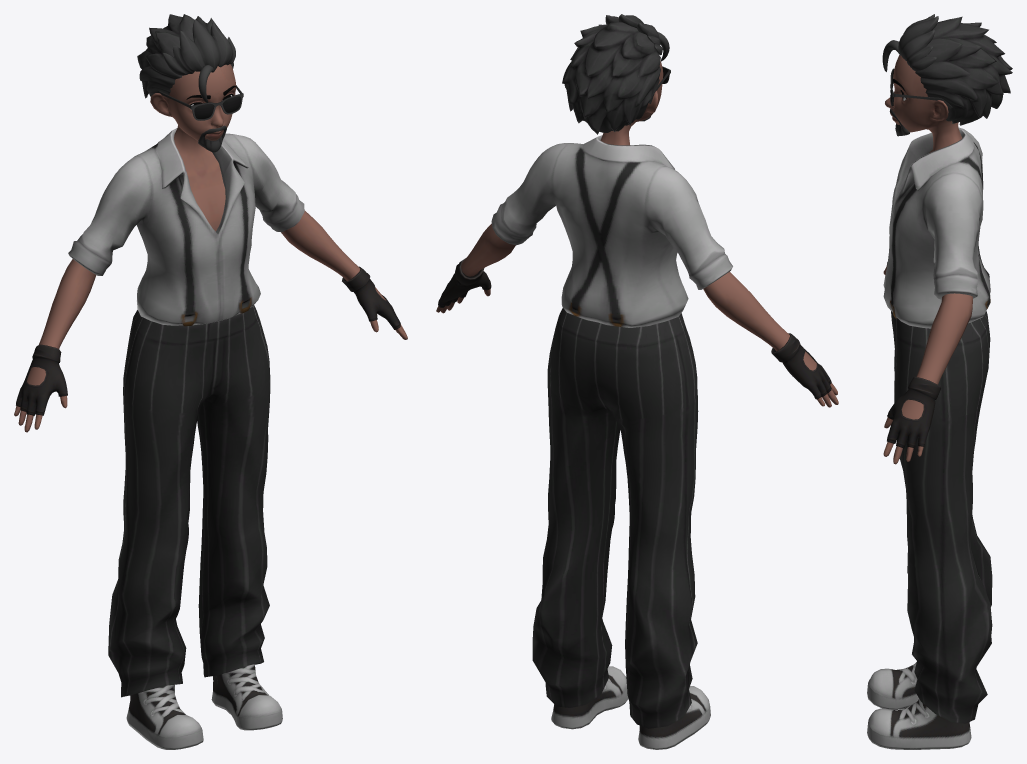
The model's file is StaffTristian_Mesh.obj.
3 views of the same model, side by side, from view 1: azimuth 30°, elevation 25°; view 2: azimuth 150°, elevation 25°; view 3: azimuth 270°, elevation 25° (orthographic). The views are drawn at different scales.
Parts seen in each view (by area): view 1: StaffTristian_Mesh_0; view 2: StaffTristian_Mesh_0; view 3: StaffTristian_Mesh_0.
Boxes of the visible parts, x1,y1,x2,y2 form: StaffTristian_Mesh_0: (14,14,407,749); StaffTristian_Mesh_0: (436,14,838,749); StaffTristian_Mesh_0: (867,14,1012,749).
Bounding box in the file's own units: 1.06 × 1.84 × 0.3456.
1 material, 1 textured.
